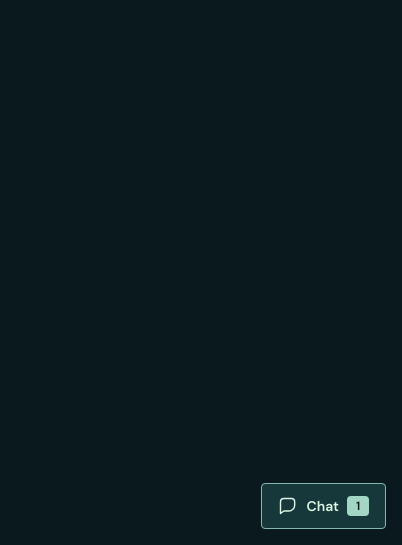
room chat panel › shows unread only for opponent messages and clears it on open
This screenshot has width=402, height=545.
expect the text named "1 tin chưa đọc" is shown: met, box [347,496,369,516]
Click the button "Chat 1" at (324, 506), box [262,483,386,529]
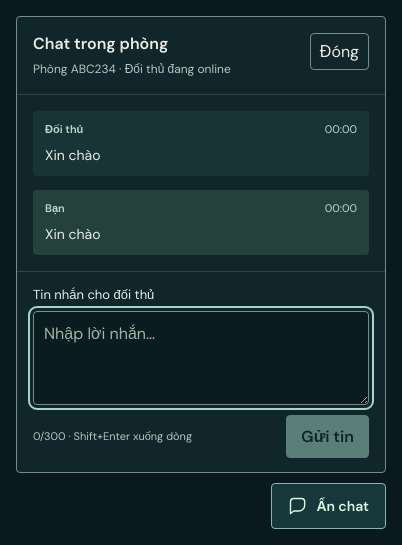
Press Escape in the text box labelled "Tin nhắn cho đối thủ", box [33,311,369,405]
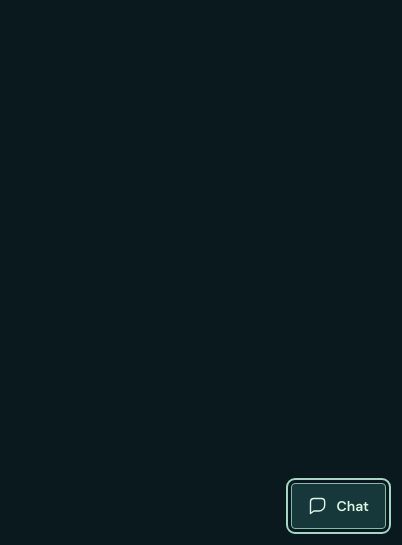
expect the button "Chat" is collapsed: met, box [292,483,386,529]
